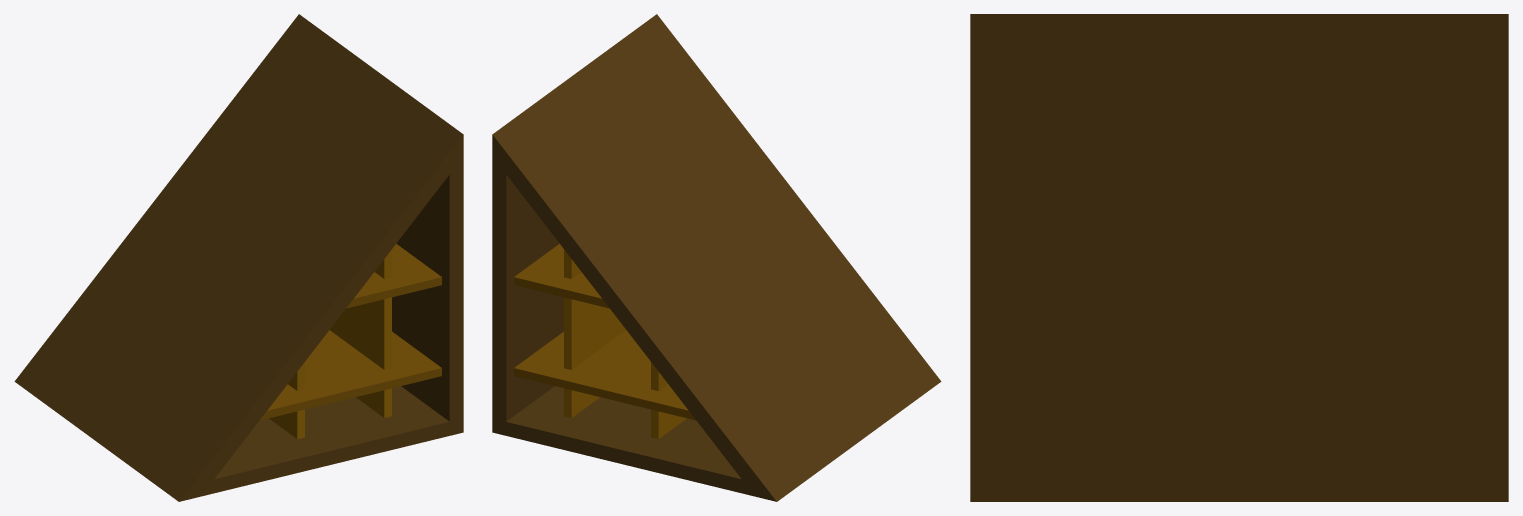
File: CornerBois.fbx
3 views of the same model, side by side, from view 1: azimuth 30°, elevation 25°; view 2: azimuth 150°, elevation 25°; view 3: azimuth 270°, elevation 25° (orthographic). The views are drawn at different scales.
Visible parts, largest first — view 1: pCube1, pCube5, pCube6; view 2: pCube1, pCube5, pCube6; view 3: pCube1.
Boxes of the visible parts, x1,y1,x2,y2 form: pCube1: (14,14,463,501); pCube5: (260,243,441,420); pCube6: (269,249,391,439); pCube1: (492,14,941,501); pCube5: (514,243,695,420); pCube6: (564,249,686,439); pCube1: (970,14,1508,501).
Bounding box in the file's own units: 0.9988 × 1 × 1.
